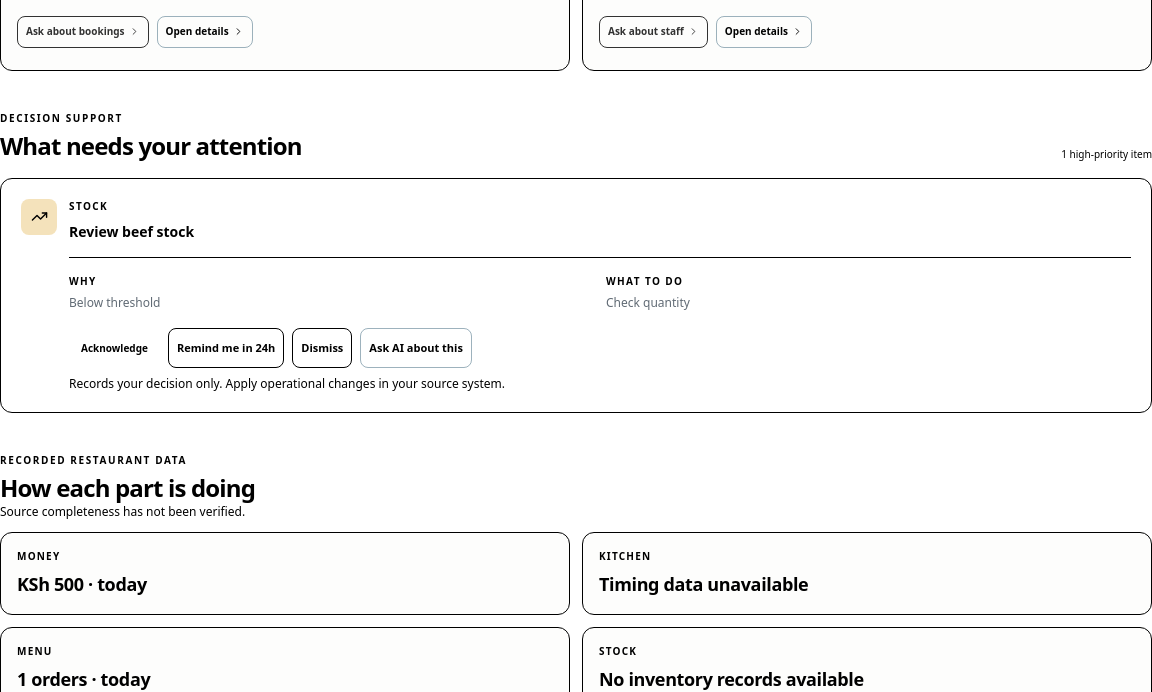
Test: keeps the attention card and shows an error when a decision fails
(page scrolled)
Expected: the heading "Review beef stock" is shown, [69,222,194,240]
What coordinates should you click on to do the following:
click the button "Acknowledge"
I would click on:
 (114, 348)
Its box is [69,330,160,366].
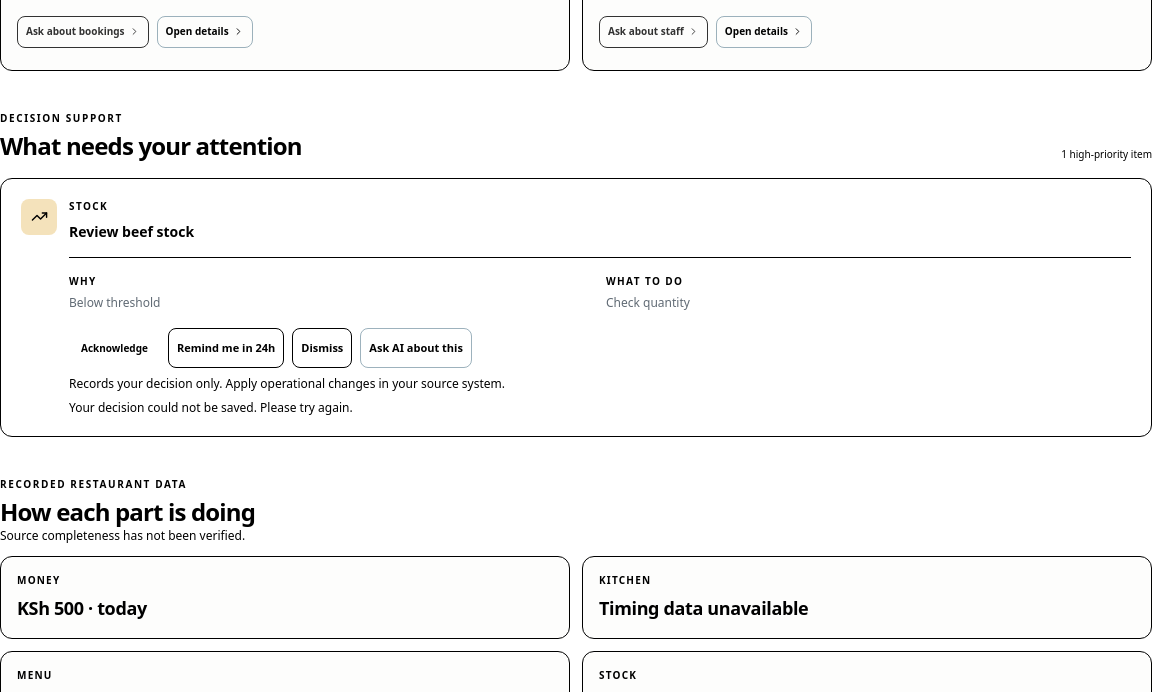
Expected: the heading "Review beef stock" is shown, [69,222,194,240]
Result: the message shows "could not be saved" at [69,399,353,416]
